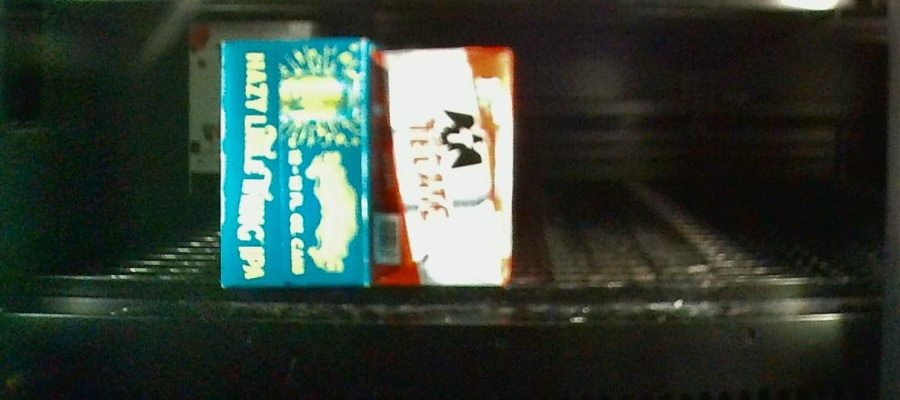bottle: (222, 38, 369, 288), (372, 47, 512, 290), (187, 22, 221, 210)
